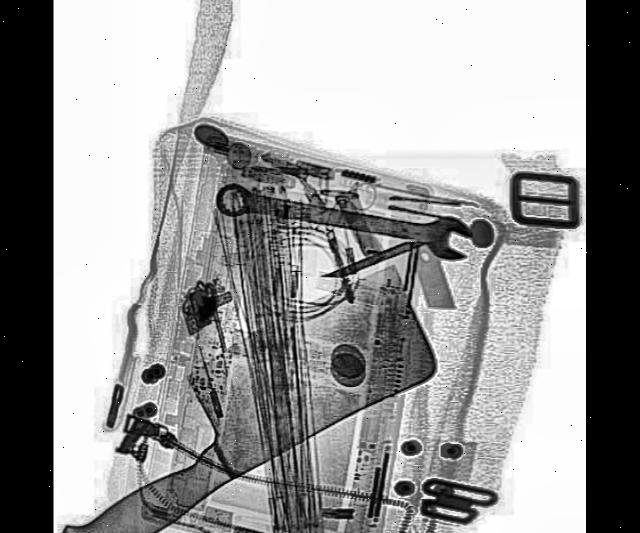Knife: (54, 251, 441, 533)
Wrench: (217, 171, 476, 266)
